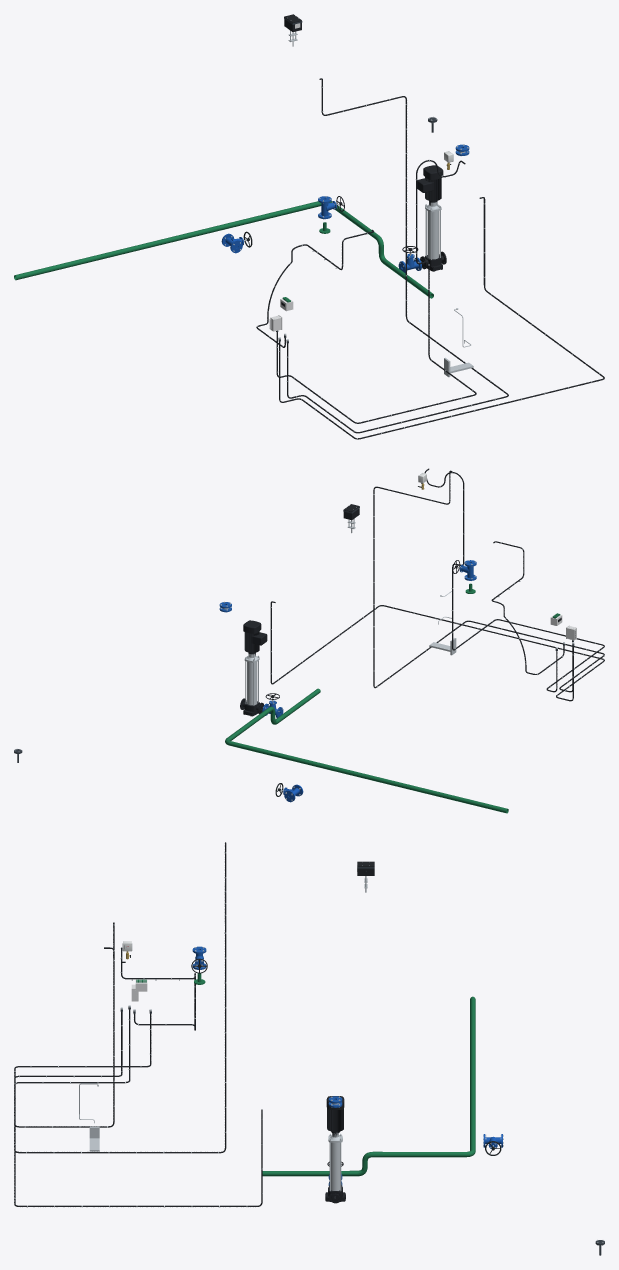
The picture shows the model from 3 angles, top to bottom: view 1: azimuth 30°, elevation 25°; view 2: azimuth 150°, elevation 25°; view 3: azimuth 270°, elevation 25°; orthographic projection. The views are drawn at different scales.
Visible parts, largest first — view 1: suction_common / green, gpz_drive_cable / black, wiring_pump_1 / black, wiring_pressure_switch_2 / black, pump_2 CAD solid 15; view 2: suction_common / green, gpz_drive_cable / black, wiring_pump_1 / black, wiring_pressure_switch_2 / black, pump_2 CAD solid 15, pump_2 CAD solid 2; view 3: suction_common / green, gpz_drive_cable / black, wiring_pump_1 / black, wiring_pressure_switch_2 / black.
Boxes of the visible parts, x1,y1,x2,y2 form: suction_common / green: (14, 201, 433, 298); gpz_drive_cable / black: (287, 78, 508, 433); wiring_pump_1 / black: (279, 197, 604, 439); wiring_pressure_switch_2 / black: (276, 160, 476, 423); pump_2 CAD solid 15: (417, 165, 443, 201); suction_common / green: (225, 688, 508, 813); gpz_drive_cable / black: (373, 470, 604, 692); wiring_pump_1 / black: (270, 601, 604, 701); wiring_pressure_switch_2 / black: (424, 468, 604, 692); pump_2 CAD solid 15: (243, 620, 267, 653); pump_2 CAD solid 2: (247, 661, 257, 705); suction_common / green: (262, 996, 475, 1176); gpz_drive_cable / black: (14, 842, 226, 1153); wiring_pump_1 / black: (14, 1010, 262, 1206); wiring_pressure_switch_2 / black: (14, 922, 151, 1127).
Size of the model in its own units: 5.8 by 3.2 by 6.03.
